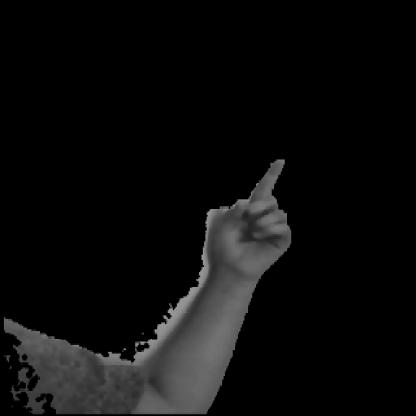one: (182, 118, 309, 357)
